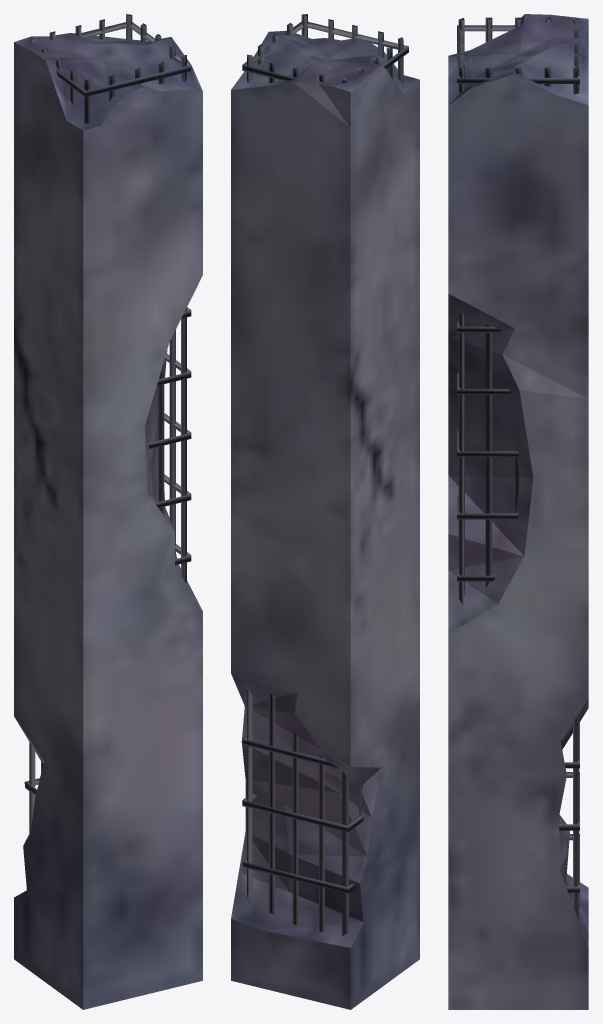
Rendered from broken-pillar-tall.gltf.
The picture shows the model from 3 angles, left to right: view 1: azimuth 30°, elevation 25°; view 2: azimuth 150°, elevation 25°; view 3: azimuth 270°, elevation 25°; orthographic projection.
Visible parts, largest first — view 1: broken_concrete_pillar_001.002; view 2: broken_concrete_pillar_001.002; view 3: broken_concrete_pillar_001.002.
Boxes of the visible parts, x1=… form: broken_concrete_pillar_001.002: x1=14, y1=14, x2=202, y2=1009; broken_concrete_pillar_001.002: x1=231, y1=14, x2=419, y2=1009; broken_concrete_pillar_001.002: x1=448, y1=14, x2=588, y2=1009.
Bounding box in the file's own units: 0.2701 × 1.99 × 0.2701.
Materials: 1 (1 with a texture image).
